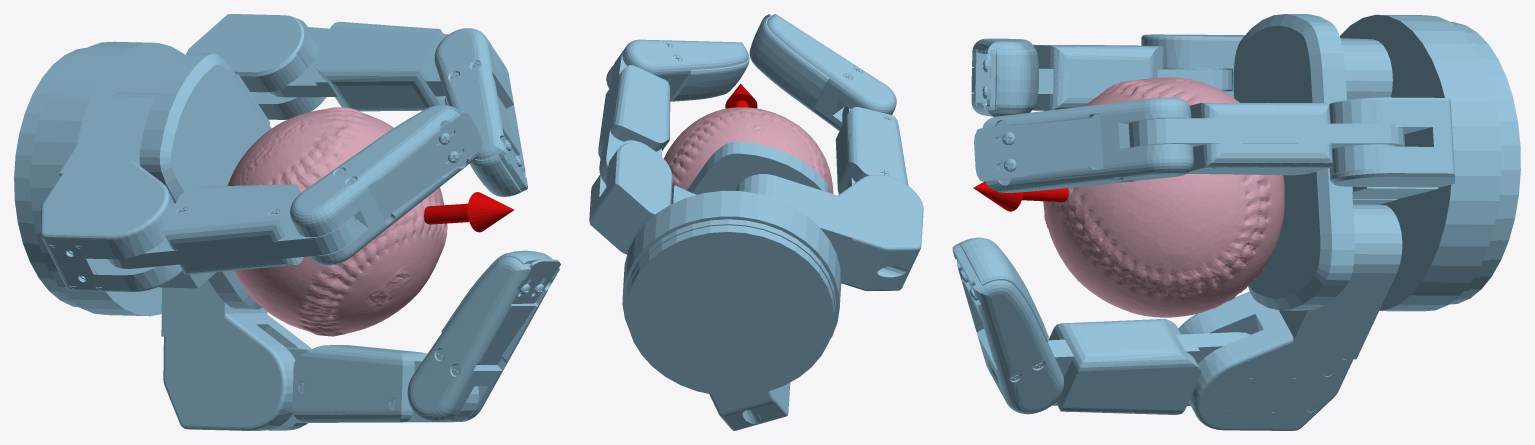
3 renders of one model, left to right at view 1: azimuth 30°, elevation 25°; view 2: azimuth 150°, elevation 25°; view 3: azimuth 270°, elevation 25°, orthographic. The views are drawn at different scales.
Visible parts, largest first — view 1: world, baseball.stl; view 2: world, baseball.stl; view 3: world, baseball.stl.
Part boxes in pixels (left/top/right/bottom): world: left=14, top=14, right=560, bottom=430; baseball.stl: left=227, top=107, right=447, bottom=336; world: left=589, top=14, right=923, bottom=430; baseball.stl: left=664, top=107, right=833, bottom=193; world: left=952, top=14, right=1520, bottom=430; baseball.stl: left=1043, top=77, right=1284, bottom=317.
Bounding box in the file's own units: 0.1602 × 0.1434 × 0.1707.
